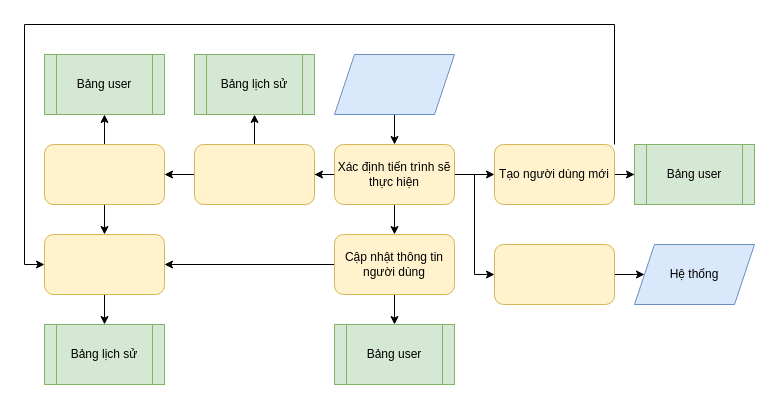
The diagram is 772 pixels wide and 402 high, and some of its shapes have lost their labels. The centre of each missing label's shape, as x and y in pixels:
"Ghi lại lịch sử tắc động hệ thống" goes at (104,264).
"Thông tin từ hệ thống" goes at (394,84).
"Xóa lịch sử tắc động của user" goes at (254,174).
"Xóa user" goes at (104,174).
"Xử lý lỗi" goes at (554,274).
